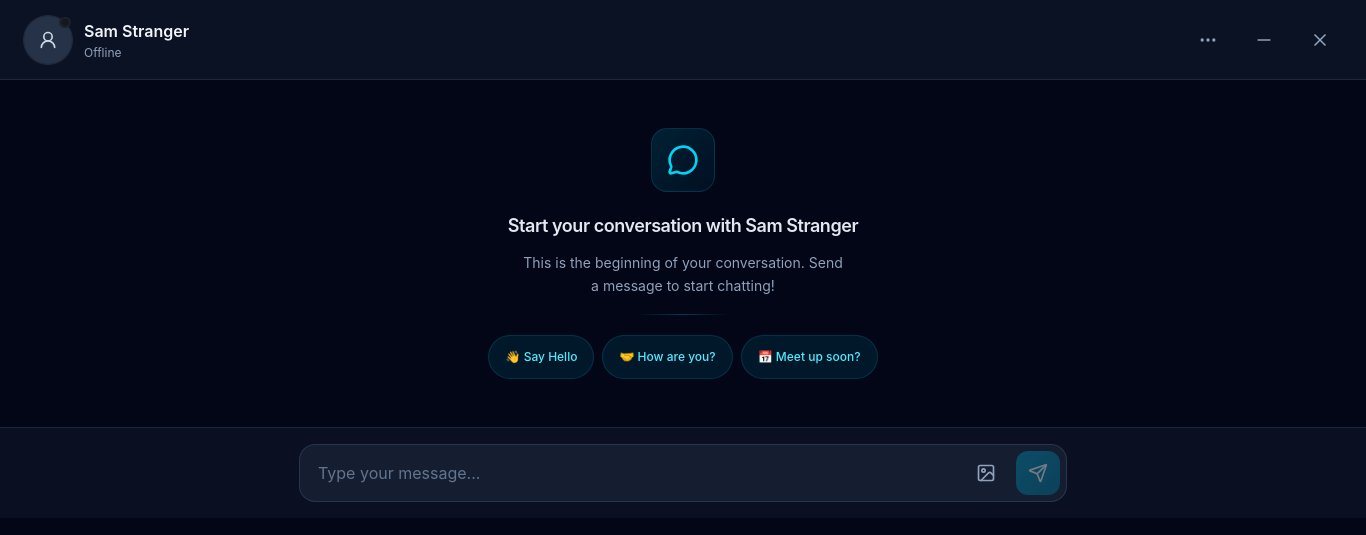
Conversation menu and blocked conversations › closes on Escape without closing the conversation
Click the button named "More actions for Sam Stranger" at (1208, 40), box [1186, 18, 1230, 62]
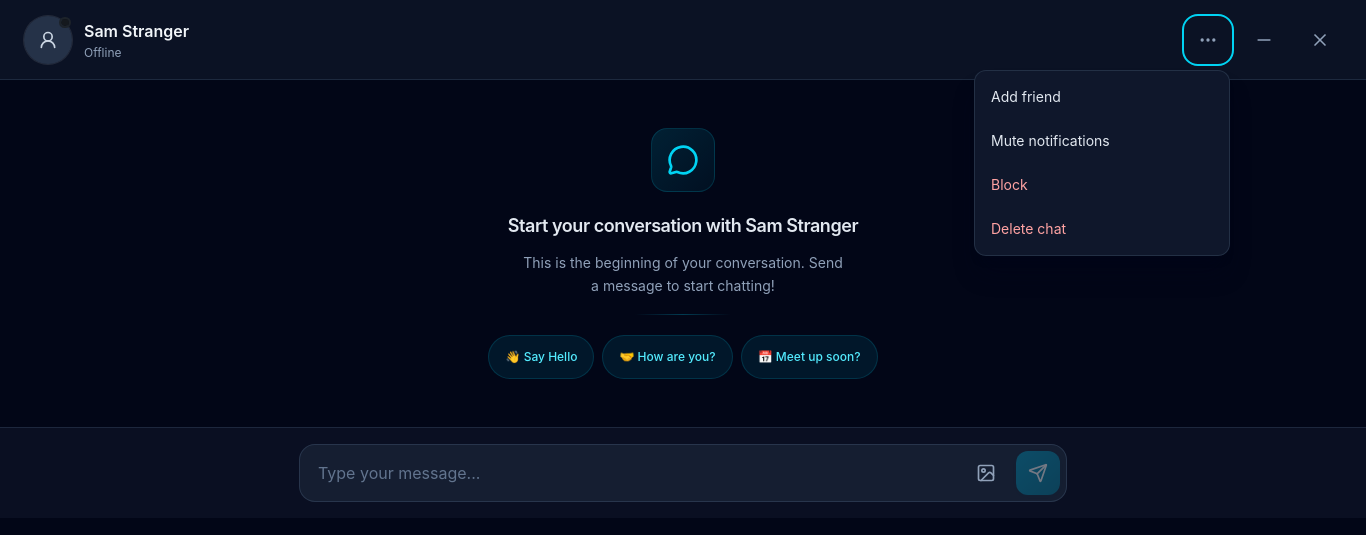
Expected: the button "Block" is shown, [979, 162, 1225, 206]
Press Escape
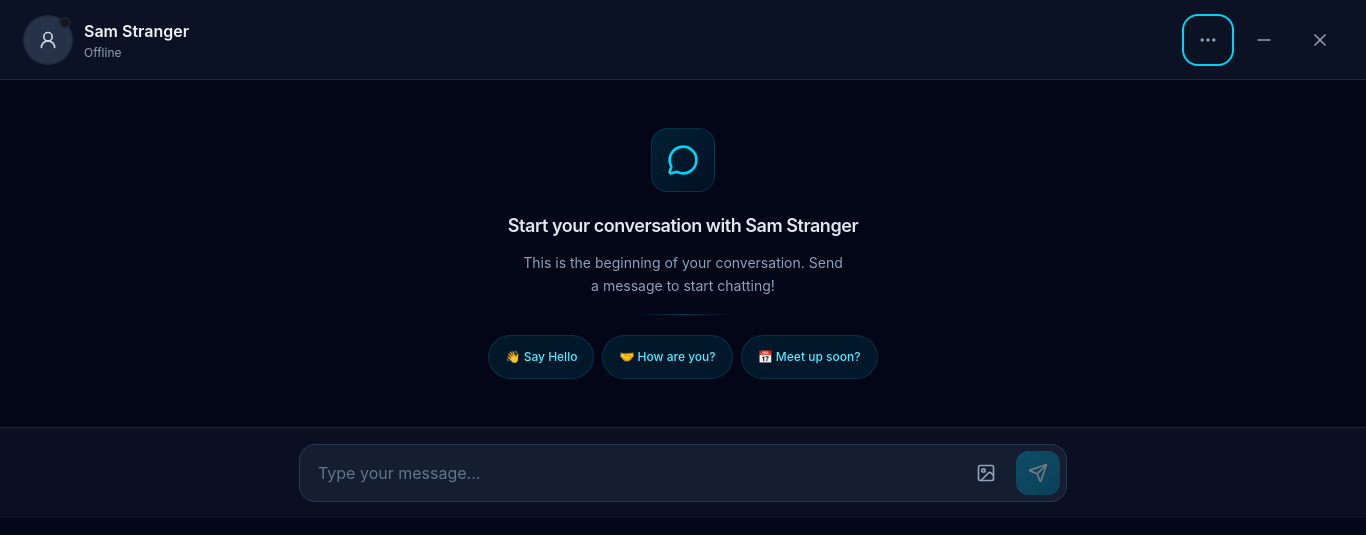
Expected: the button "Block" is gone
